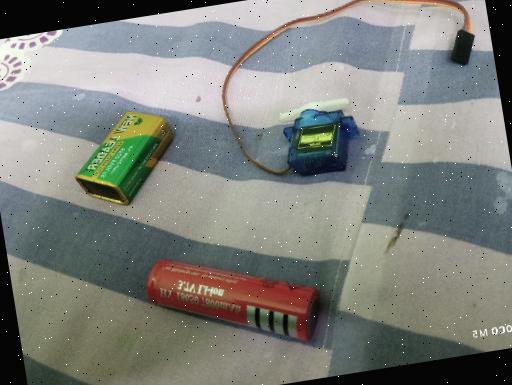Battery: (141, 234, 328, 365), (66, 104, 183, 212)
Motor: (276, 94, 366, 180)
